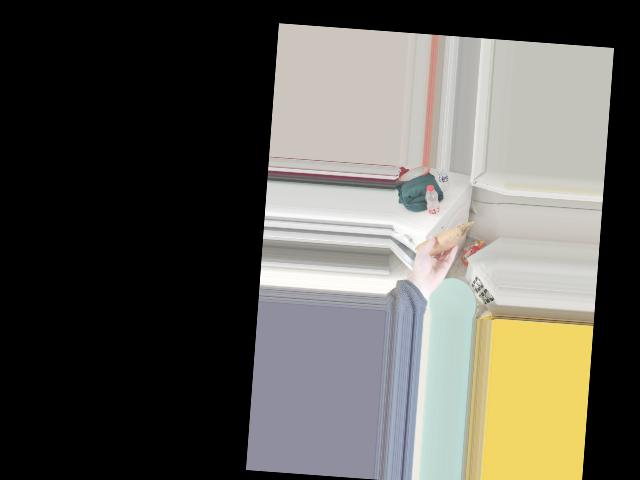sweet_potato: (421, 227, 458, 255)
